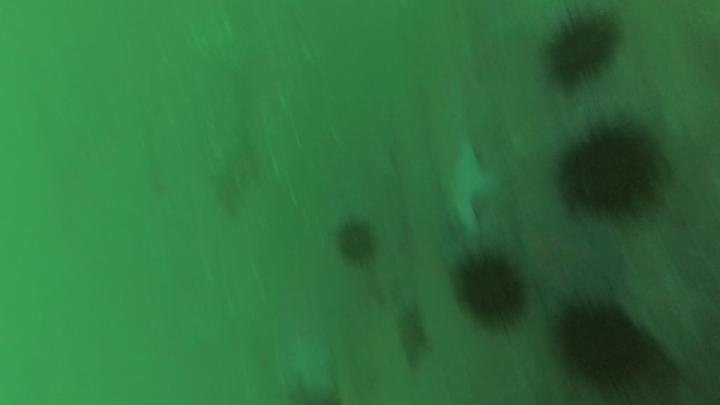echinus: (550, 288, 688, 405), (548, 110, 676, 234), (438, 239, 533, 340), (536, 6, 631, 94), (332, 216, 378, 268)
starfish: (442, 146, 504, 240), (395, 304, 432, 373)
